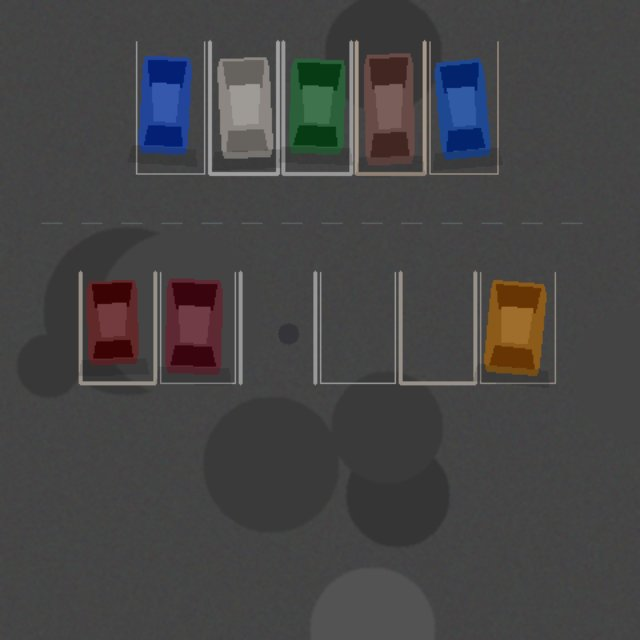space-empty: (240, 272, 315, 383), (320, 272, 395, 383), (400, 272, 475, 383)
space-occupied: (136, 41, 204, 173), (209, 41, 277, 173), (283, 41, 351, 173), (356, 41, 424, 173), (429, 41, 497, 173), (80, 272, 155, 383), (160, 272, 235, 383), (480, 272, 555, 383)
